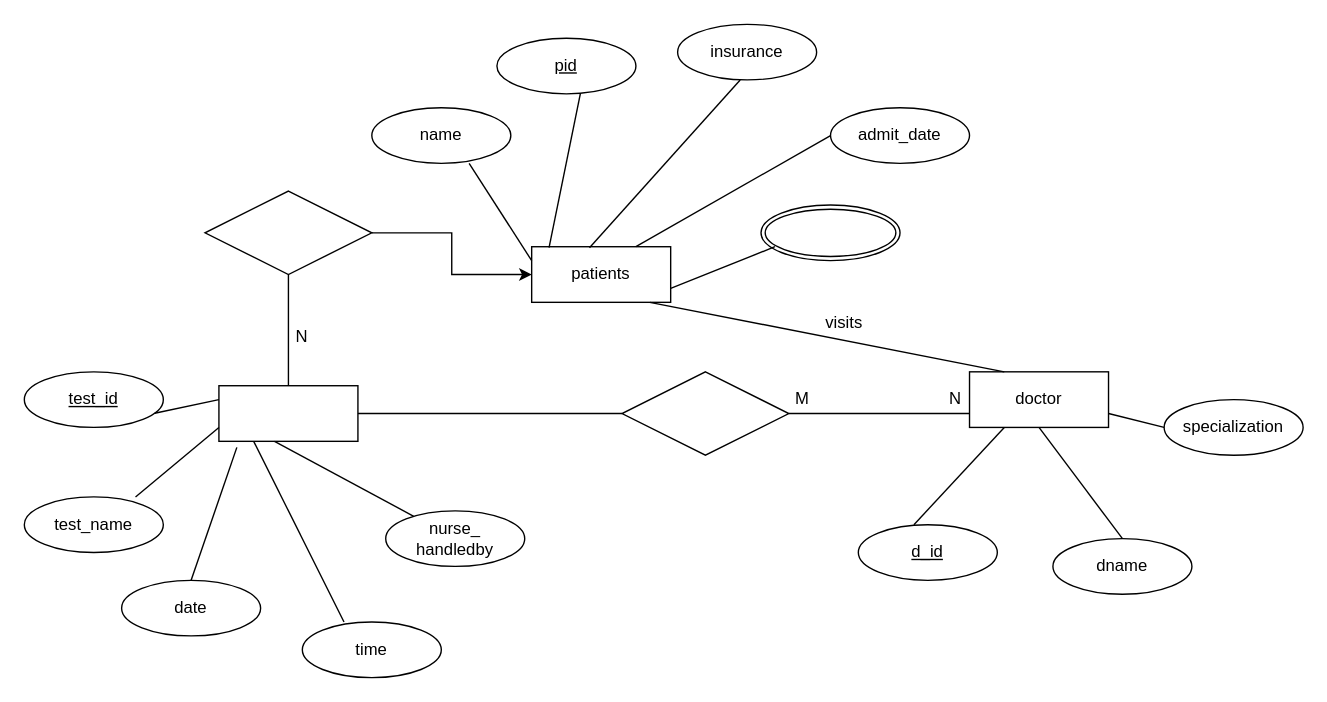
Image size: 1327x702. Some labels were removed from this diagram. Here are the shapes that lost their labels. From the top down, the box of each, then its label:
(204, 190, 372, 275): test-data
(760, 204, 900, 261): phone_num
(218, 384, 358, 441): Test
(621, 370, 789, 455): Result_viewedby
